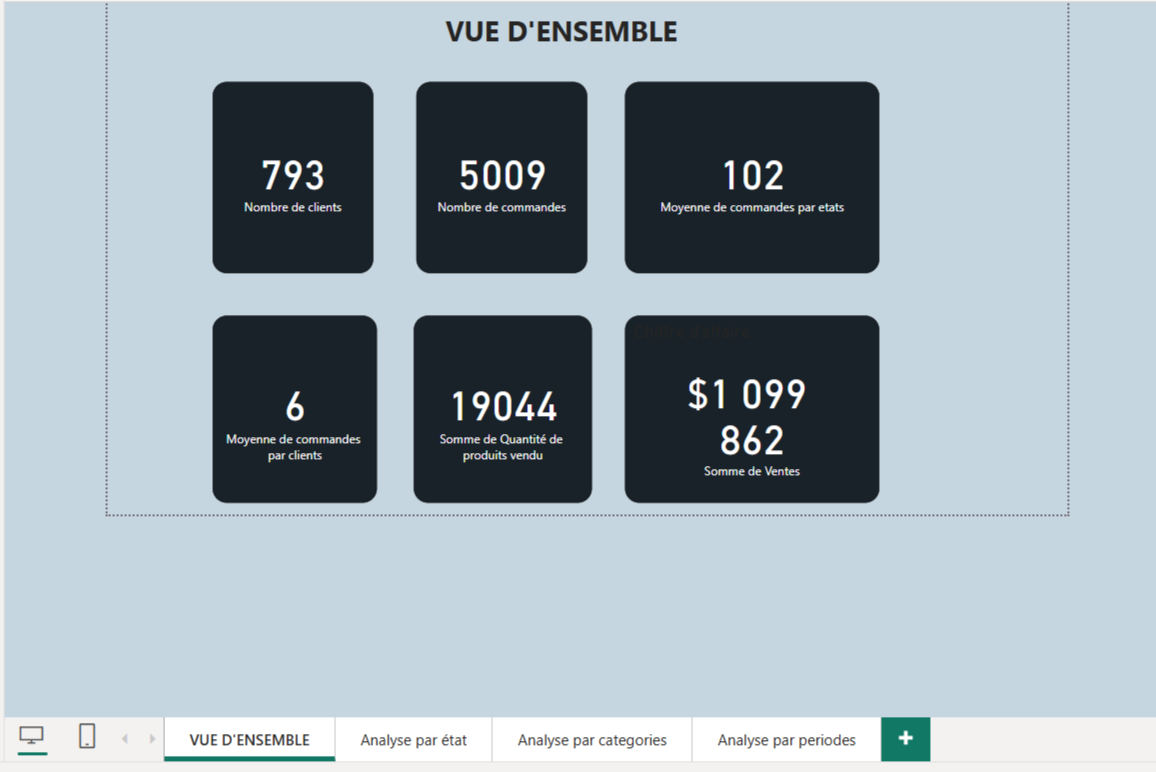

The dashboard page shown, as its layout file describes it:
{"tool":"powerbi","page":{"name":"VUE D'ENSEMBLE","canvas":[1280,720],"ordinal":0},"visuals":[{"type":"card","fields":{"Values":["SuperStore.Nombre de clients"]},"box":[140,144.1,214.1,255.2],"z":0},{"type":"card","fields":{"Values":["SuperStore.Nombre de commandes"]},"box":[411.7,144.1,227.8,255.2],"z":1000},{"type":"card","fields":{"Values":["SuperStore.Moyenne de commandes par clients"]},"box":[140,455.6,219.6,249.7],"z":2000},{"type":"card","fields":{"Values":["SuperStore.Moyenne de commandes par etats"]},"box":[690.2,144.1,338.9,255.2],"z":3000},{"type":"card","fields":{"Values":["Sum(SuperStore.Quantité)"]},"box":[407.5,455.6,237.4,249.7],"z":4000},{"type":"card","title":"Chiffre d''affaire","fields":{"Values":["Sum(SuperStore.Ventes)"]},"box":[690.2,455.6,338.9,249.7],"z":5000},{"type":"textbox","box":[393.8,45,423.8,73.8],"z":6000}]}

Visuals, with their boxes on the page's 1280x720 design canvas (x1, y1, x2, y2). These are canvas units, not pixel positions in the 1156x772 screenshot, which may show the page scaled, cropped or inside an application window:
card - SuperStore.Nombre de clients: crop(140, 144, 354, 399)
card - SuperStore.Nombre de commandes: crop(412, 144, 640, 399)
card - SuperStore.Moyenne de commandes par clients: crop(140, 456, 360, 705)
card - SuperStore.Moyenne de commandes par etats: crop(690, 144, 1029, 399)
card - Sum(SuperStore.Quantité): crop(408, 456, 645, 705)
"Chiffre d''affaire" card: crop(690, 456, 1029, 705)
textbox: crop(394, 45, 818, 119)
